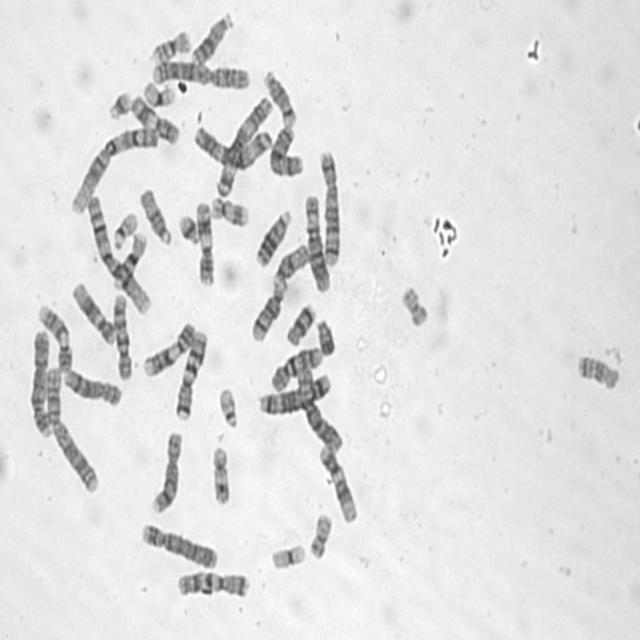A1: (68, 124, 160, 216), (86, 193, 152, 315)
A2: (43, 364, 101, 495), (148, 58, 251, 91)
A3: (212, 93, 274, 199), (190, 121, 272, 170)
B4: (138, 519, 219, 571), (28, 327, 54, 439)
B5: (255, 370, 332, 418), (317, 145, 342, 268)
C10: (268, 343, 324, 393), (111, 289, 134, 382)
C11: (129, 91, 180, 147), (194, 198, 215, 288)
C12: (316, 442, 359, 525), (70, 278, 116, 347)
C6: (294, 364, 344, 454), (303, 190, 332, 293)
C7: (172, 326, 210, 422), (174, 567, 252, 599)
C8: (149, 428, 184, 516), (60, 364, 124, 409)
C9: (140, 319, 197, 378), (35, 301, 73, 373)
D13: (252, 206, 294, 269), (188, 10, 234, 67)
D14: (248, 280, 288, 343), (261, 67, 297, 130)
D15: (137, 185, 173, 248), (271, 240, 311, 286)
E16: (110, 227, 148, 290), (148, 27, 192, 65)
E17: (209, 442, 233, 508), (208, 193, 250, 230)
E18: (574, 348, 621, 392), (283, 299, 318, 349)
F19: (268, 539, 307, 572), (141, 78, 177, 108)
F20: (306, 508, 334, 560), (400, 280, 430, 328)
G21: (105, 87, 133, 122), (177, 211, 200, 245)
G22: (110, 208, 139, 251), (216, 383, 241, 431)
X: (266, 122, 305, 179)
Y: (314, 314, 338, 358)
